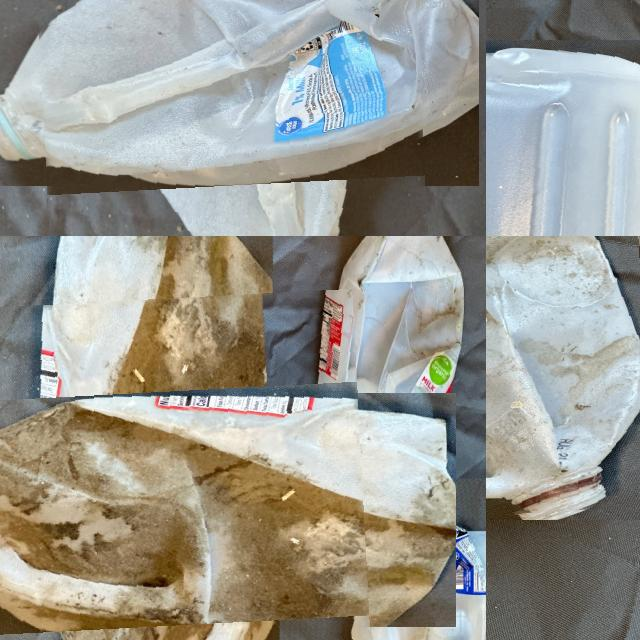milk-jug: (0, 295, 368, 640), (36, 0, 423, 236), (486, 236, 640, 522), (323, 236, 468, 463), (486, 48, 640, 236), (338, 517, 486, 640)
